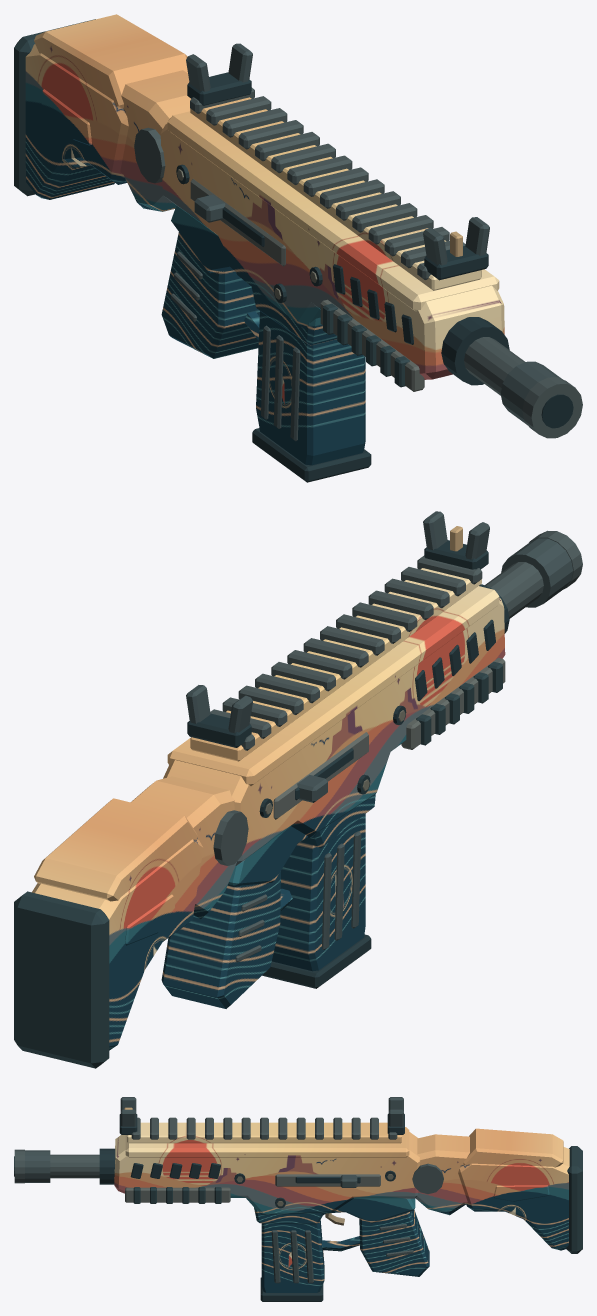
Rendered from SCAR_Mirage.glb.
3 views of the same model, one above another, from view 1: azimuth 30°, elevation 25°; view 2: azimuth 150°, elevation 25°; view 3: azimuth 270°, elevation 25° (orthographic). The views are drawn at different scales.
Visible parts, largest first — view 1: Main, Stock, Magazine; view 2: Main, Stock, Magazine; view 3: Main, Stock, Magazine.
Part boxes in pixels (x1,y1,x2,y2): Main: (160, 43, 582, 438); Stock: (14, 14, 190, 211); Magazine: (252, 311, 371, 482); Main: (161, 511, 582, 1008); Stock: (14, 776, 248, 1068); Magazine: (262, 814, 371, 988); Main: (14, 1097, 429, 1276); Stock: (412, 1128, 582, 1253); Magazine: (260, 1220, 324, 1301).
Size of the model in its own units: 0.549 by 1.45 by 3.93.
Materials: 1 (1 with a texture image).
